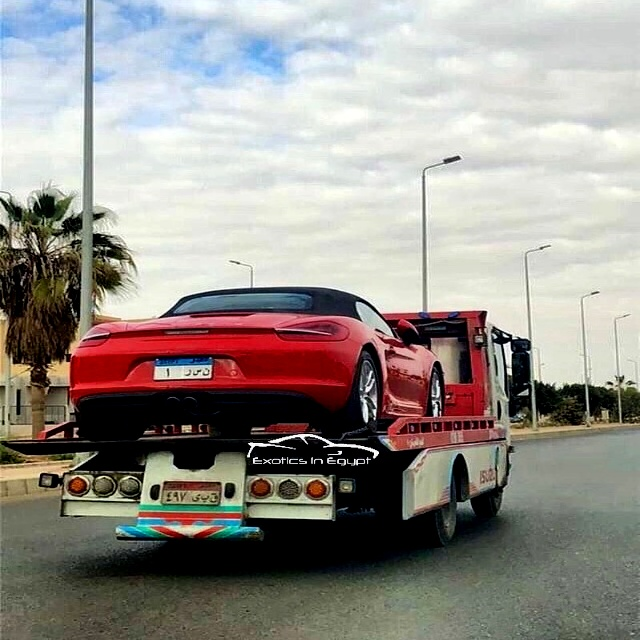License Plate: (150, 354, 215, 382), (158, 480, 223, 506)
